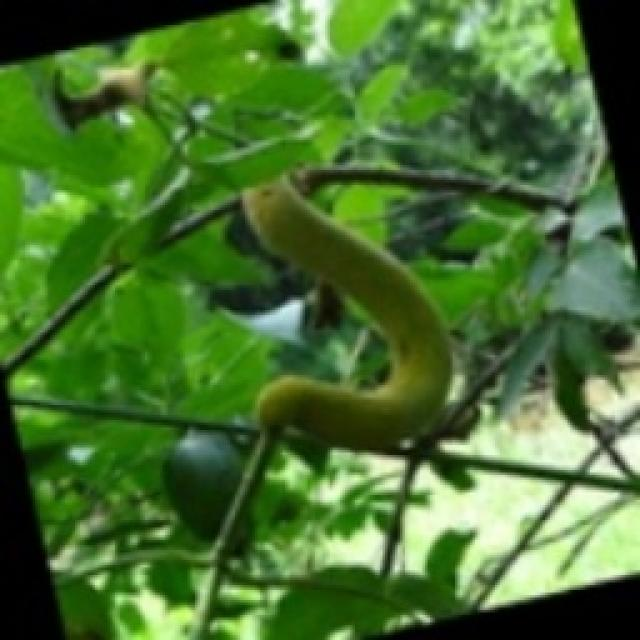Elderberry_rust: (245, 149, 446, 470), (158, 422, 252, 542)
